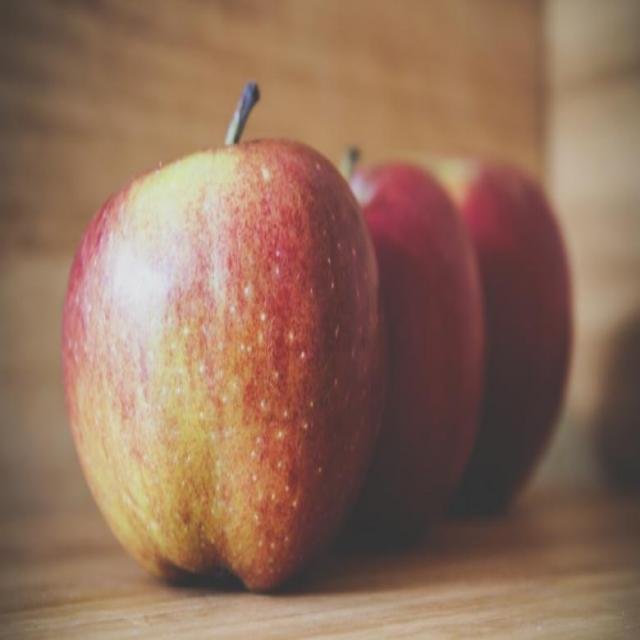Fresh Apple: (67, 123, 380, 627), (343, 127, 485, 560), (455, 135, 577, 530)
